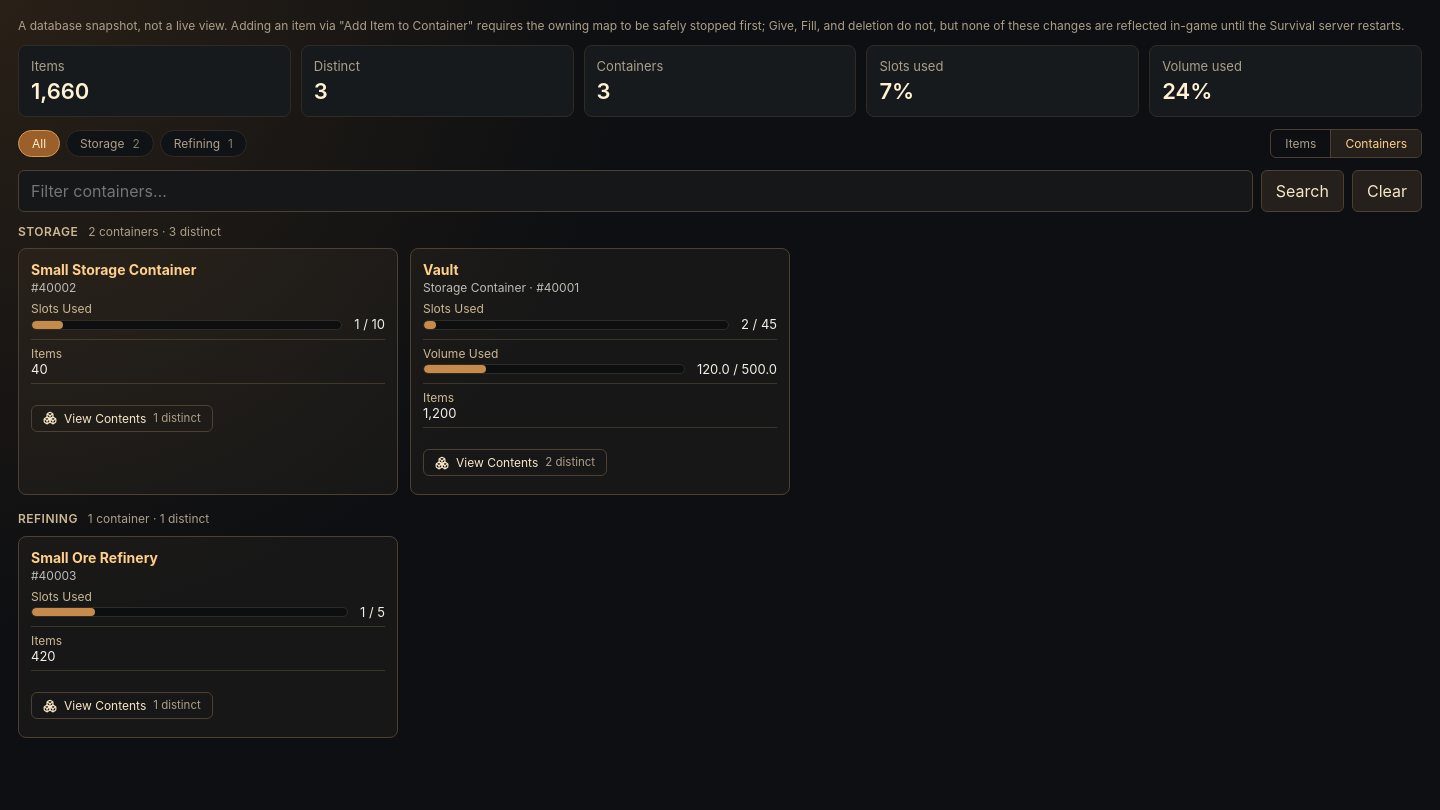
Test case: BaseInventoryTab › only filters on submit, and Clear restores everything
The width and height of the screenshot is (1440, 810).
Expected: the text "Distinct" is shown, [314,58,360,74]
Click the button "Items".
click(1301, 144)  # box [1271,130,1330,157]
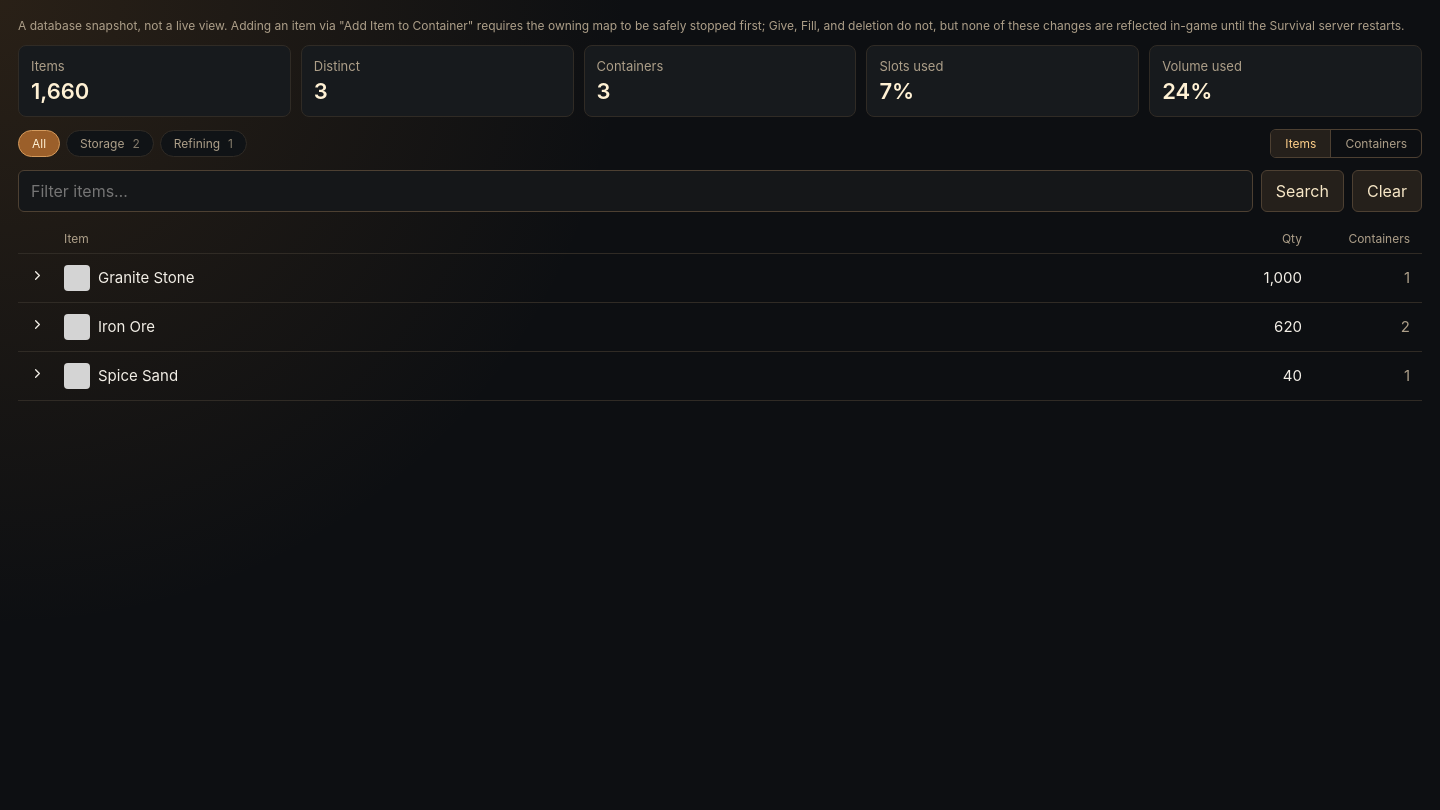
Type "iron" into the field named "Filter base inventory".
click(635, 191); type("iron")  # box [18,170,1253,212]
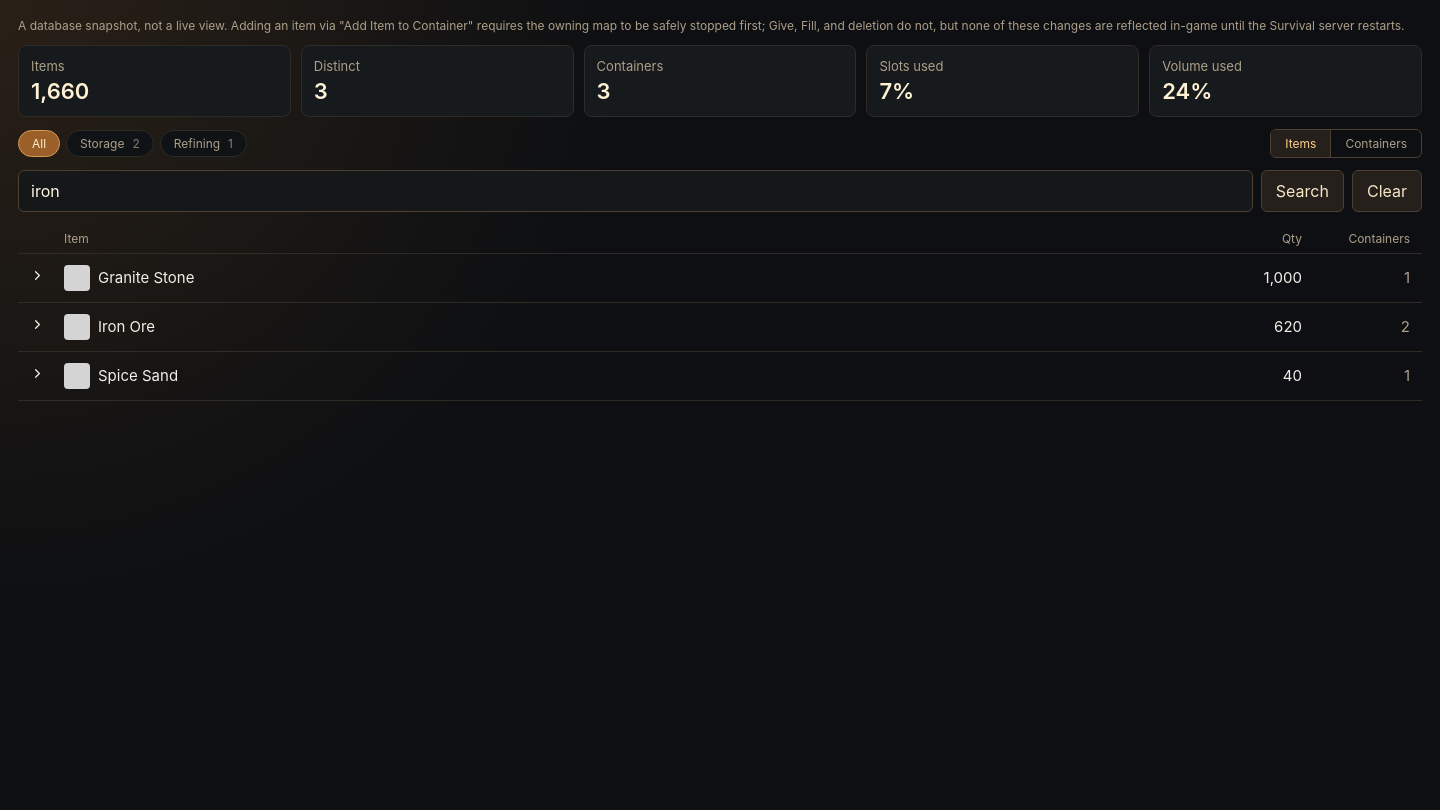
Click the button "Search".
click(1302, 191)  # box [1261,170,1344,212]
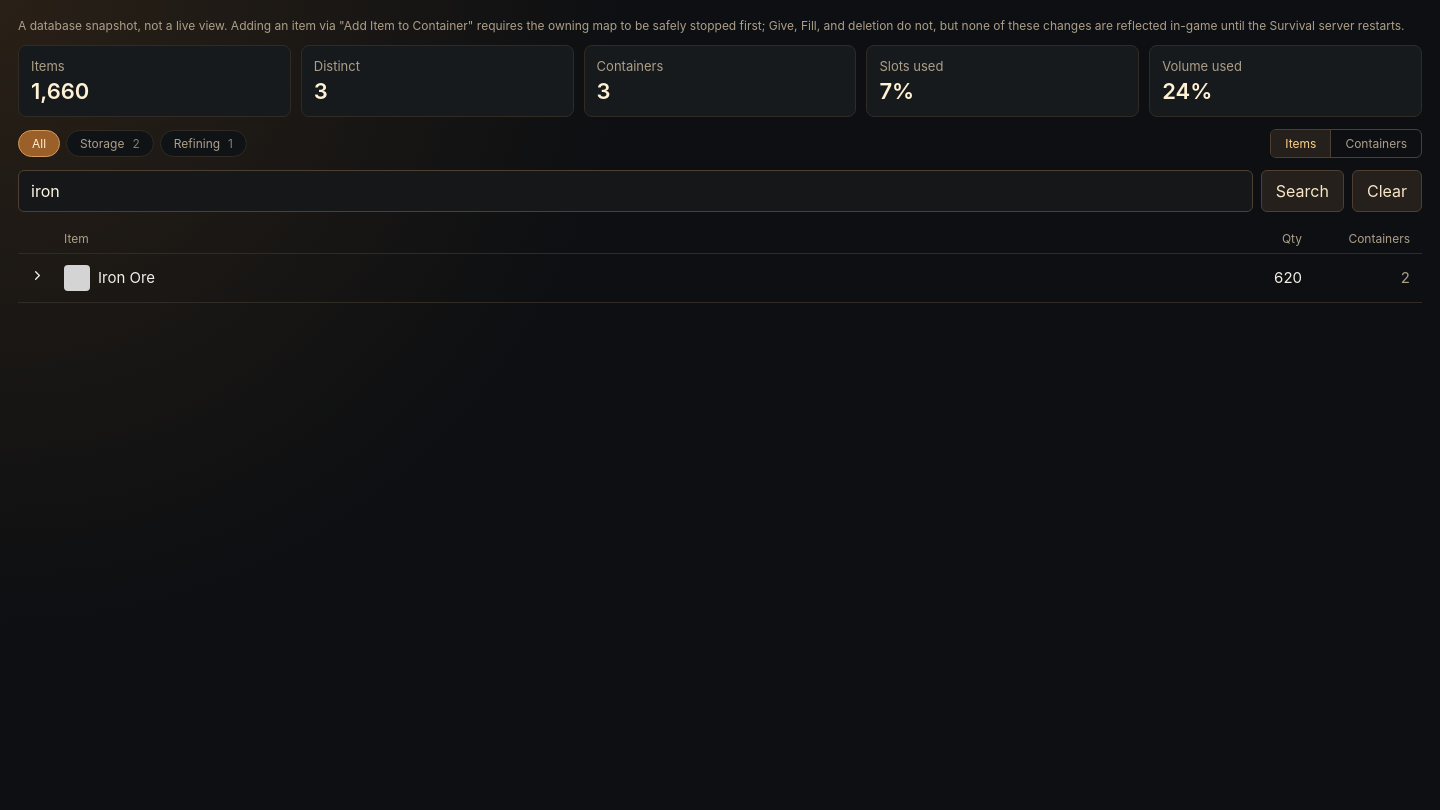
Now the button with class "bases-inventory-item-row" shows "Iron Ore", box [18,254,1422,303]
Click the button "Clear".
click(1387, 191)  # box [1352,170,1422,212]
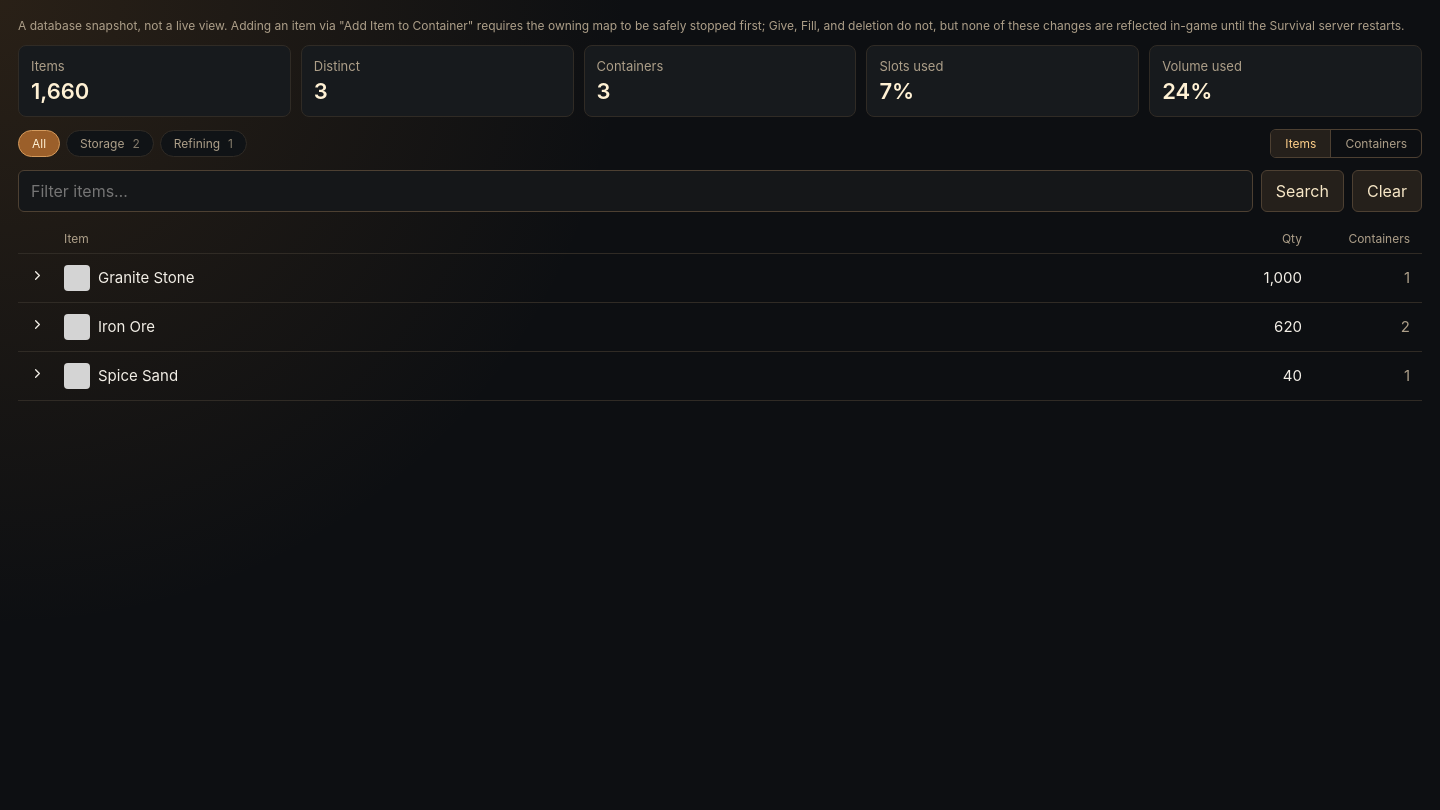
Now the field named "Filter base inventory" is empty, box [18,170,1253,212]
